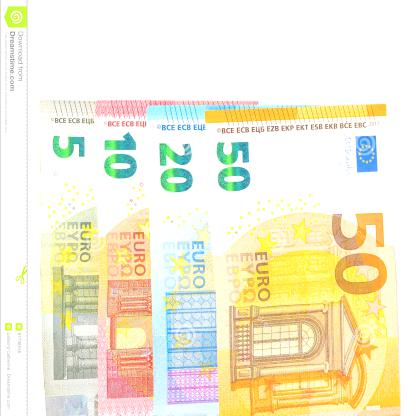euro_banknote: (87, 168, 396, 354), (21, 178, 335, 340), (150, 168, 416, 351)
